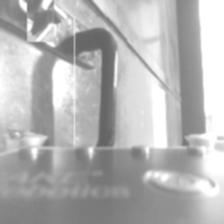Door Handle: (74, 18, 127, 146)
Lock: (19, 0, 61, 35)
